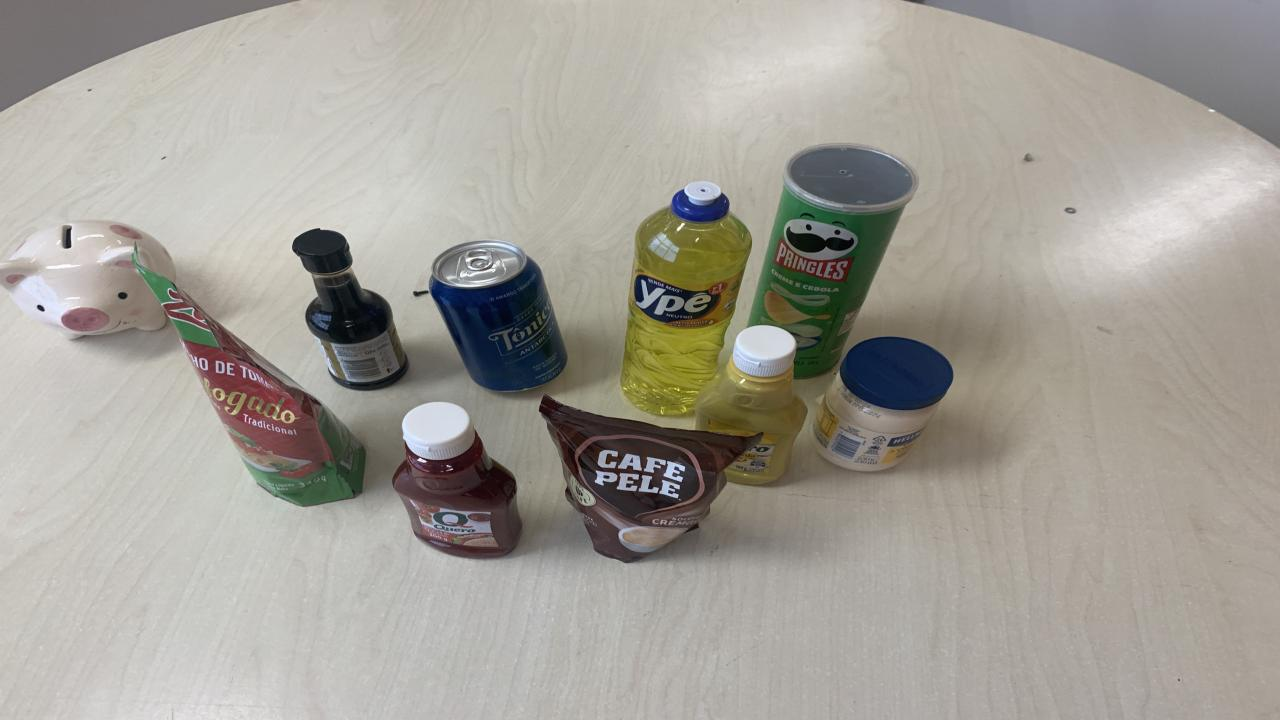Coffee-Pantry_Items: (540, 396, 760, 562)
Detergent-Cleanup_Items: (620, 182, 752, 414)
English_Sauce-Pantry_Items: (292, 229, 408, 390)
Ketchup-Pantry_Items: (392, 401, 522, 559)
Mayonnaise-Pantry_Items: (812, 338, 952, 471)
Mustard-Pantry_Items: (695, 324, 808, 486)
Pig_Safe-Miscellaneous: (0, 219, 175, 339)
Pringles-Snacks: (748, 142, 918, 379)
Tomato_Sauce-Pantry_Items: (135, 262, 365, 506)
Tonic-Drinks: (430, 240, 568, 392)
